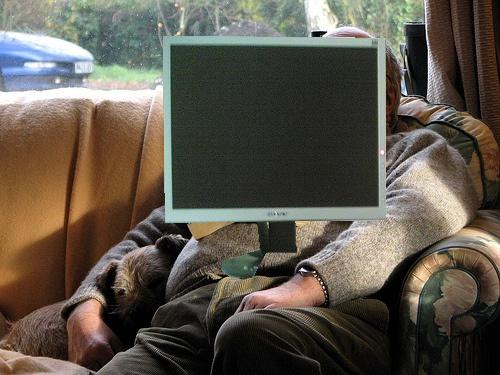tampered: (164, 37, 386, 278)
